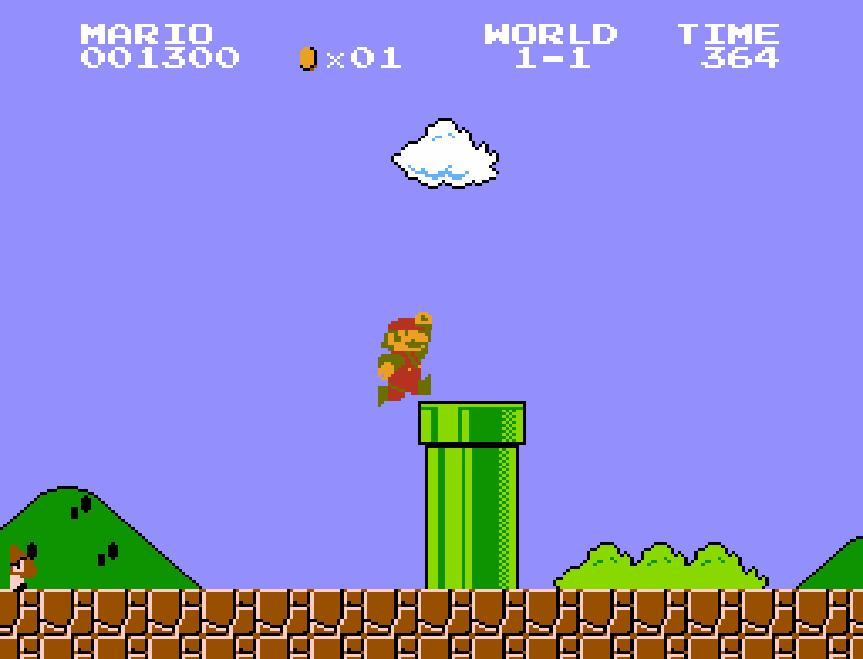big_mario: (376, 310, 434, 408)
